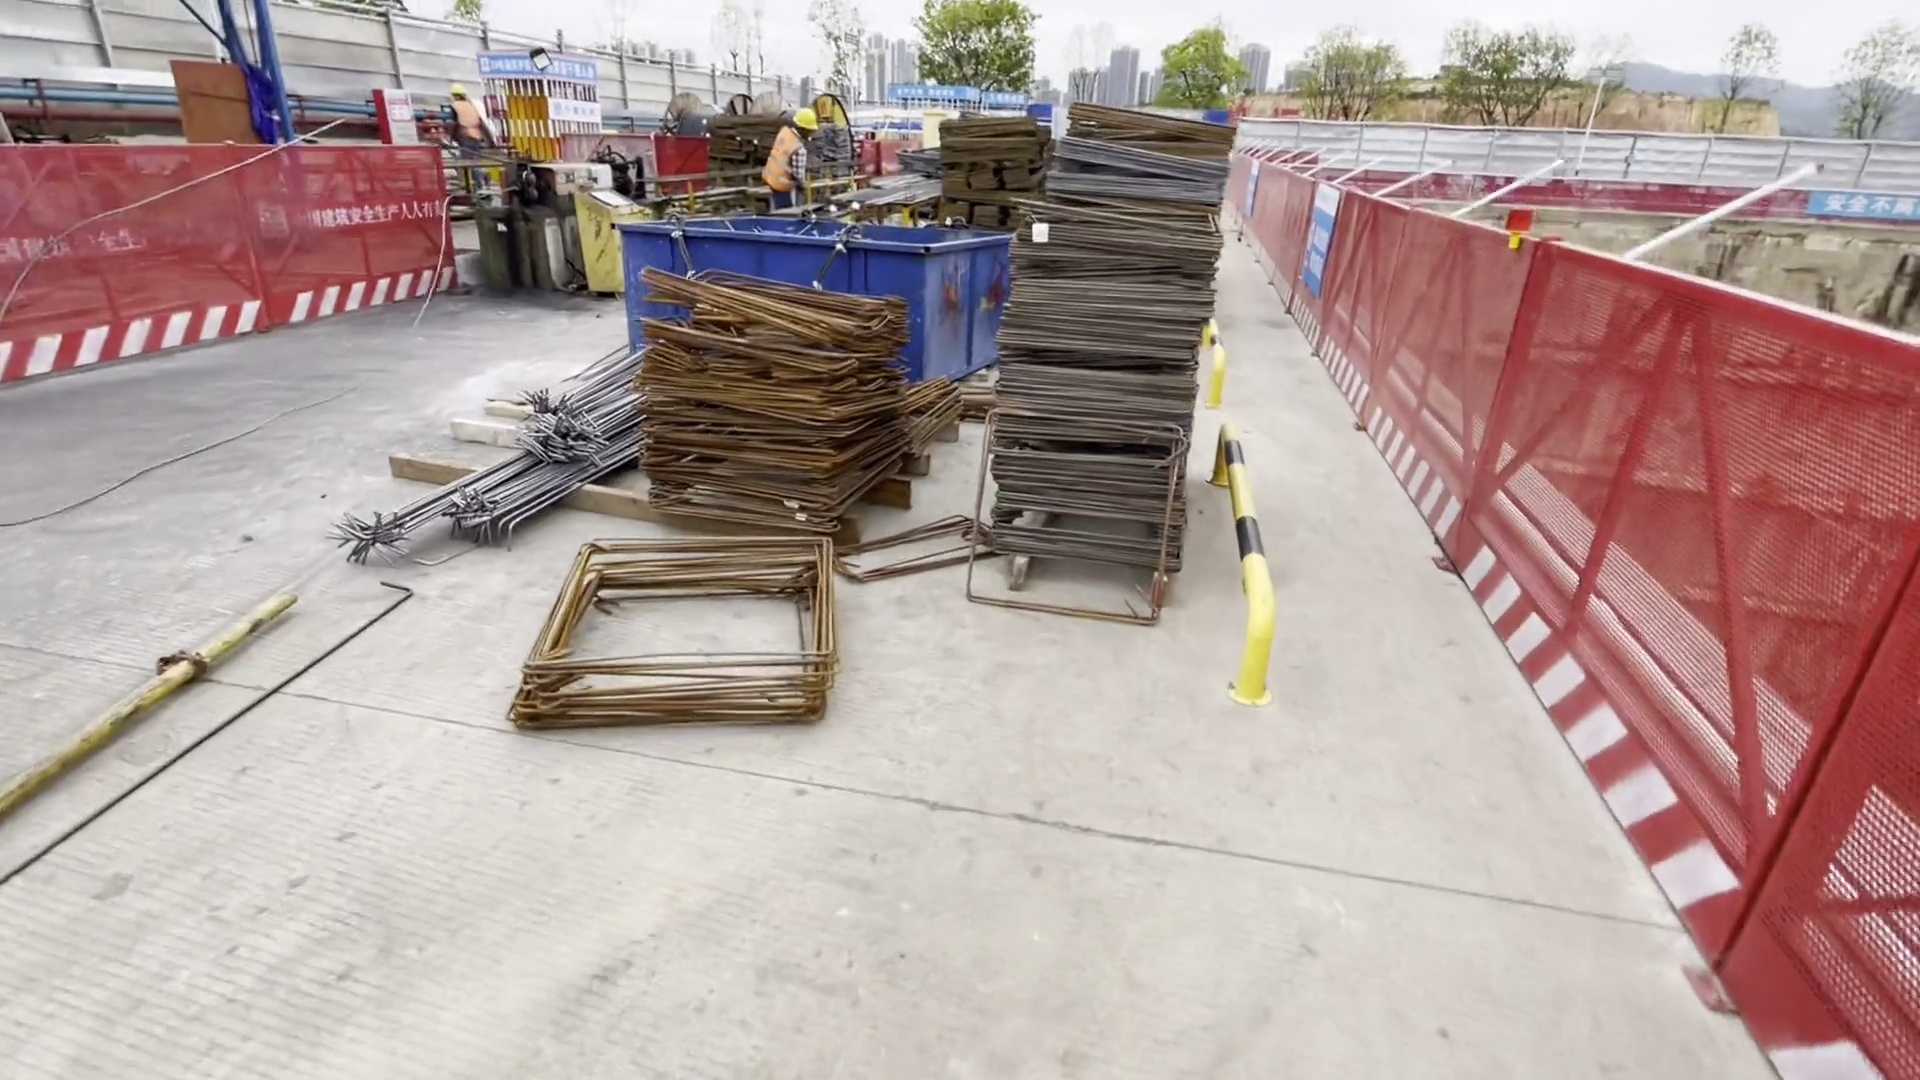fence: (1230, 168, 1920, 1075), (1, 141, 454, 383)
helmet: (789, 109, 817, 132), (452, 84, 467, 95)
hopper: (624, 205, 1005, 388)
person: (762, 107, 818, 213), (441, 84, 487, 199)
vest: (761, 126, 803, 193), (450, 99, 479, 136)
